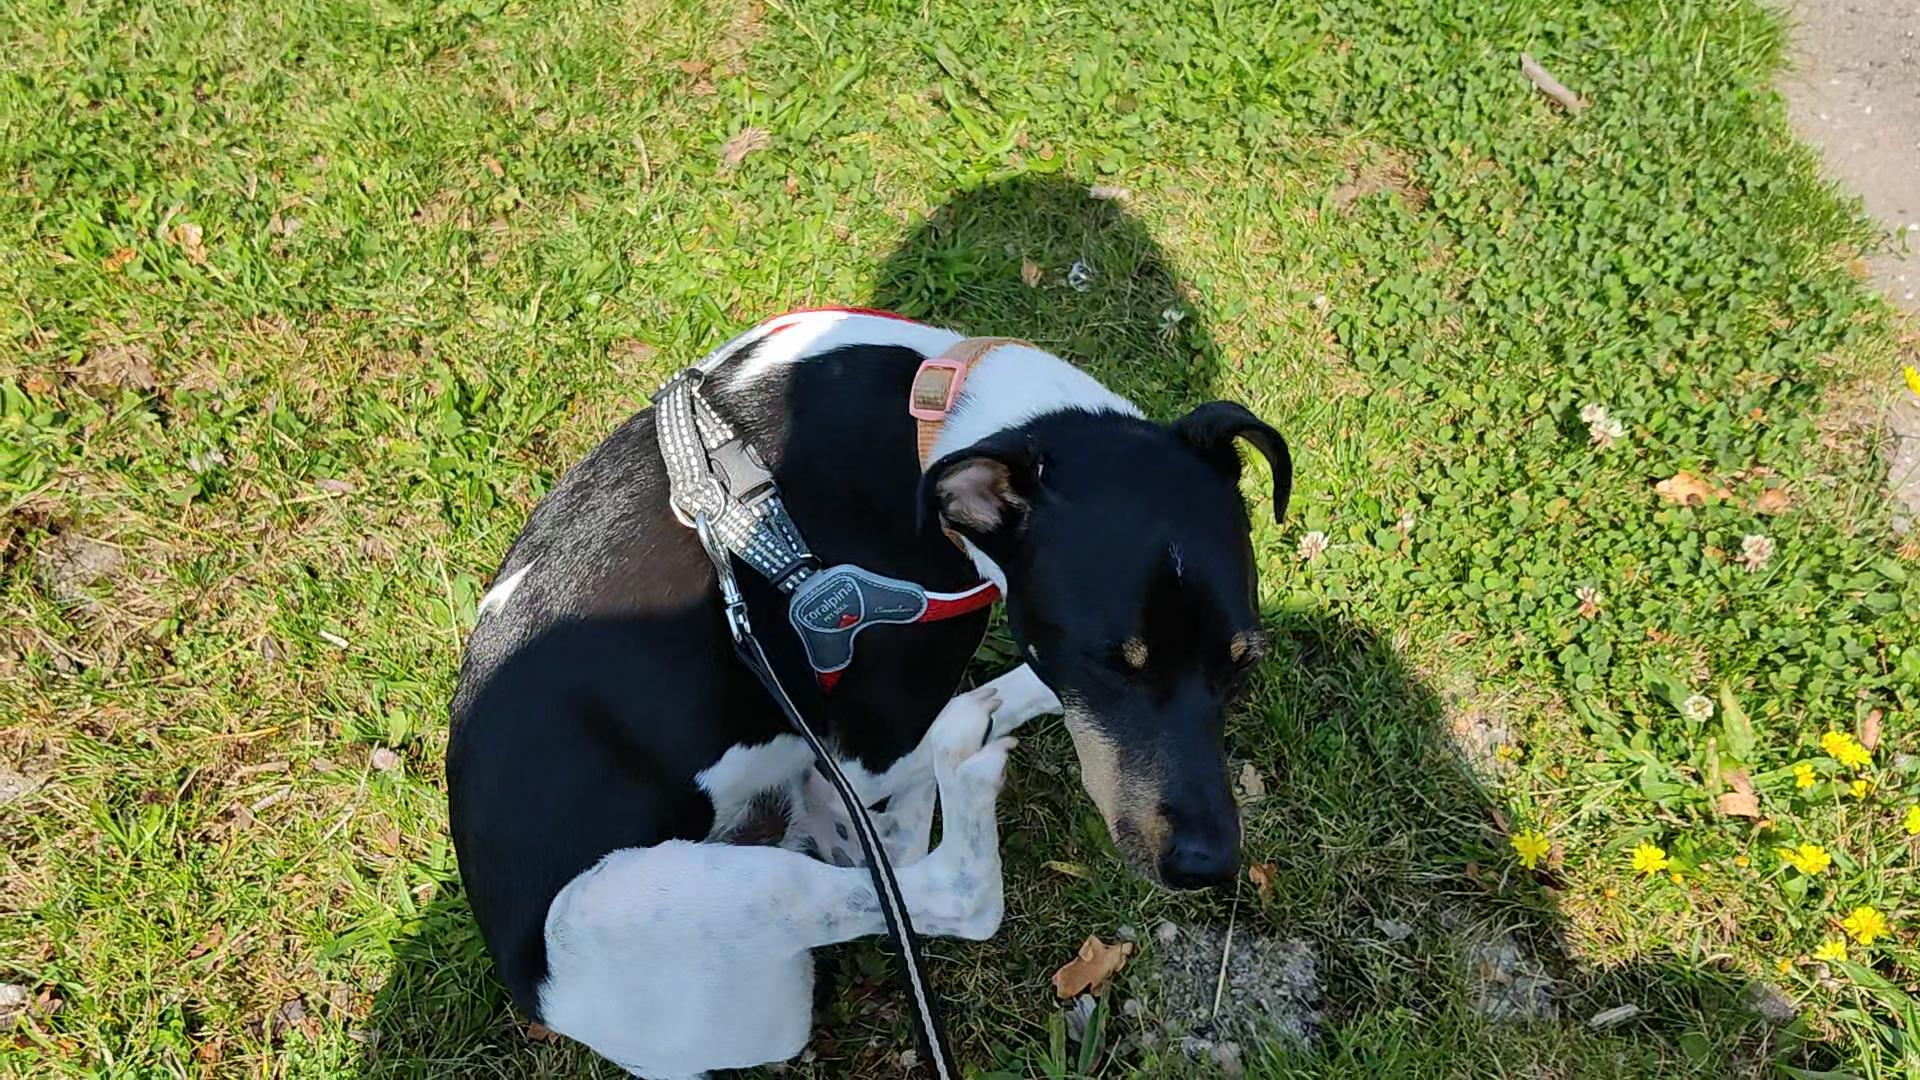Dog: (404, 270, 1346, 1079)
